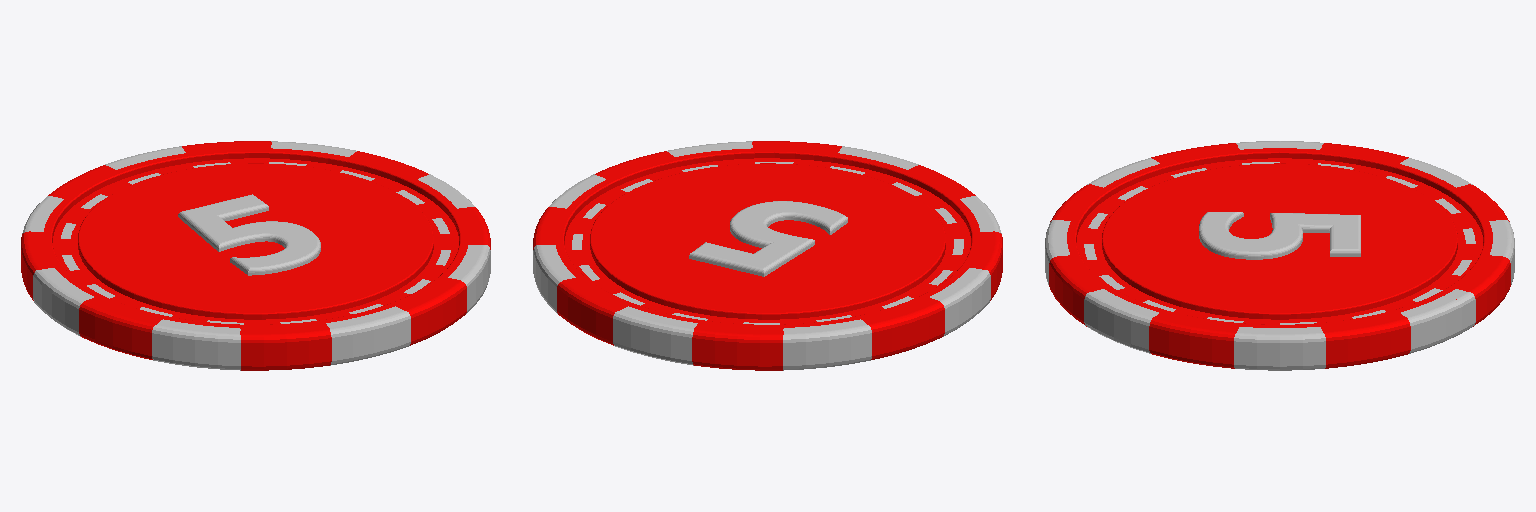
The model's file is poker_chip_5.obj.
3 renders of one model, left to right at view 1: azimuth 30°, elevation 25°; view 2: azimuth 150°, elevation 25°; view 3: azimuth 270°, elevation 25°, orthographic.
Visible parts, largest first — view 1: obj1, obj2, obj3; view 2: obj1, obj2, obj3; view 3: obj1, obj2, obj3.
Part boxes in pixels (x1,y1,x2,y2): obj1: (21, 141, 490, 370); obj2: (22, 141, 490, 370); obj3: (178, 194, 320, 275); obj1: (533, 141, 1002, 370); obj2: (533, 141, 1001, 370); obj3: (689, 201, 847, 276); obj1: (1049, 143, 1510, 368); obj2: (1045, 141, 1514, 370); obj3: (1199, 212, 1360, 259).
Bounding box in the file's own units: 0.0802 × 0.0091 × 0.0802.